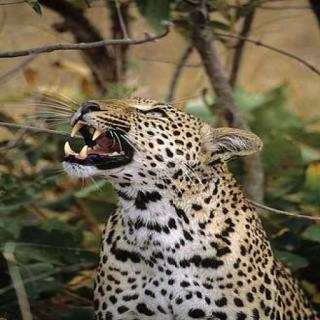Leopard: (37, 76, 320, 320)
